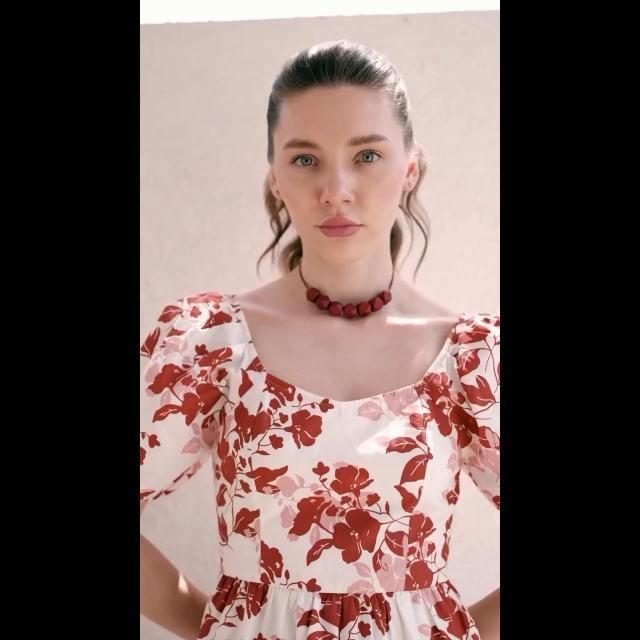dress: (155, 308, 500, 640)
